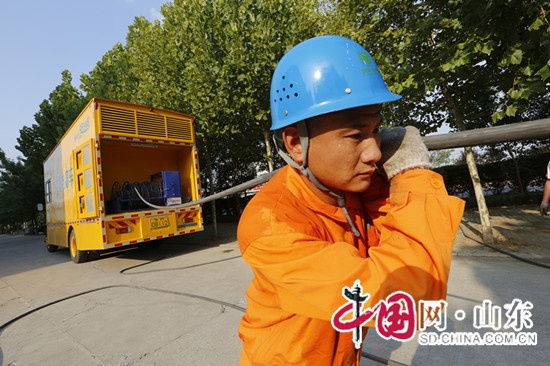blue: (262, 35, 399, 196)
